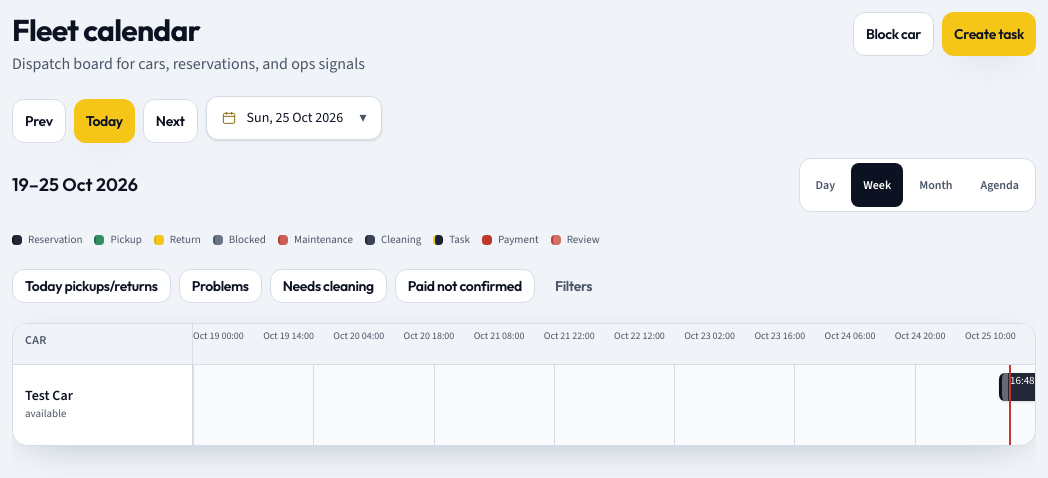
AdminCalendarPage › opens quick create menu on empty slot click
Expected: the text "Test Car" is shown, x1=25 y1=386 x2=73 y2=405
Click the element showing "16:48 Test booking" at (614, 404), box x1=193 y1=364 x2=1035 y2=444
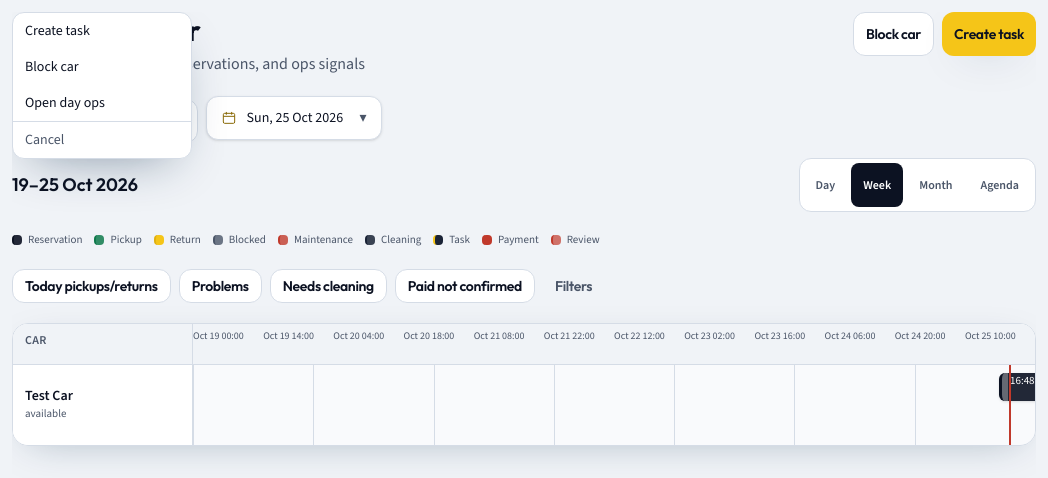
Now the menu with test id "quick-create-menu" is shown, box x1=12 y1=12 x2=192 y2=159
